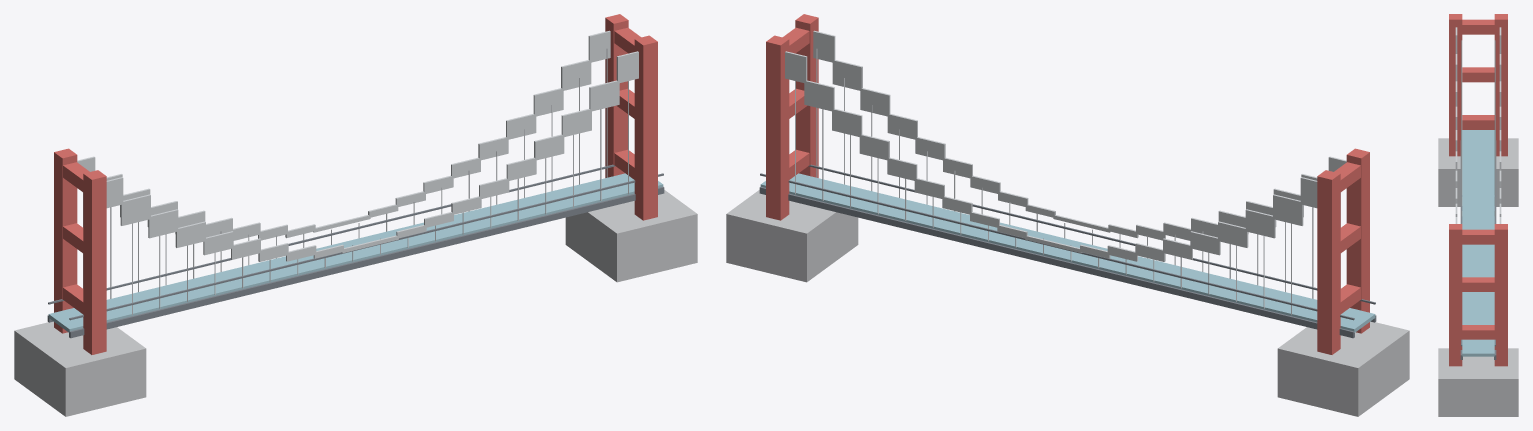
Rendered from lm_103_cau_kinh_ngan_thong_7d_thung_lung_tinh_yeu_suspension_bridge.glb.
The picture shows the model from 3 angles, left to right: view 1: azimuth 30°, elevation 25°; view 2: azimuth 150°, elevation 25°; view 3: azimuth 270°, elevation 25°; orthographic projection. The views are drawn at different scales.
Visible parts, largest first — view 1: lm_103_cau_kinh_ngan_thong_7d_thung_lung_tinh_yeu_suspension; view 2: lm_103_cau_kinh_ngan_thong_7d_thung_lung_tinh_yeu_suspension; view 3: lm_103_cau_kinh_ngan_thong_7d_thung_lung_tinh_yeu_suspension.
Part boxes in pixels (bbox=[...]): lm_103_cau_kinh_ngan_thong_7d_thung_lung_tinh_yeu_suspension: bbox=[14, 14, 697, 416]; lm_103_cau_kinh_ngan_thong_7d_thung_lung_tinh_yeu_suspension: bbox=[726, 14, 1409, 416]; lm_103_cau_kinh_ngan_thong_7d_thung_lung_tinh_yeu_suspension: bbox=[1438, 14, 1518, 416].
Size of the model in its own units: 59.6 by 20.2 by 8.4.
